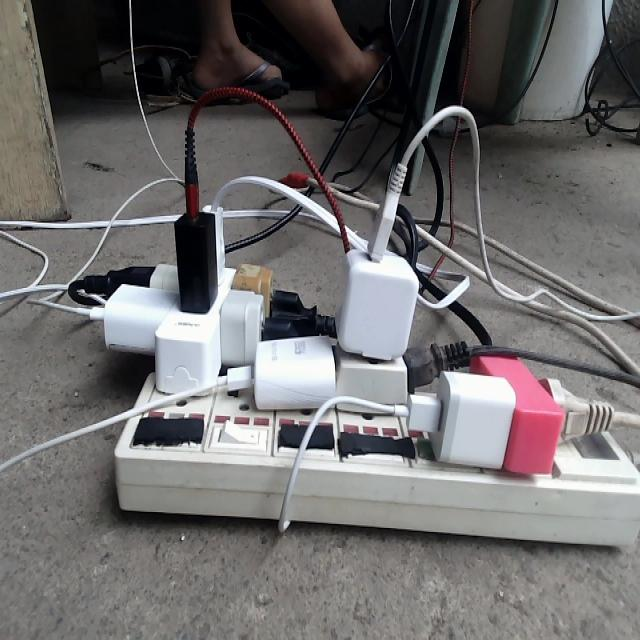-: (101, 193, 638, 547)
